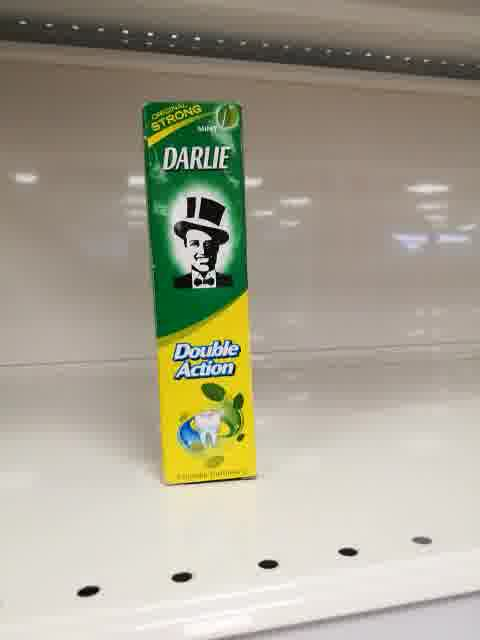toothpaste: (142, 101, 259, 487)
